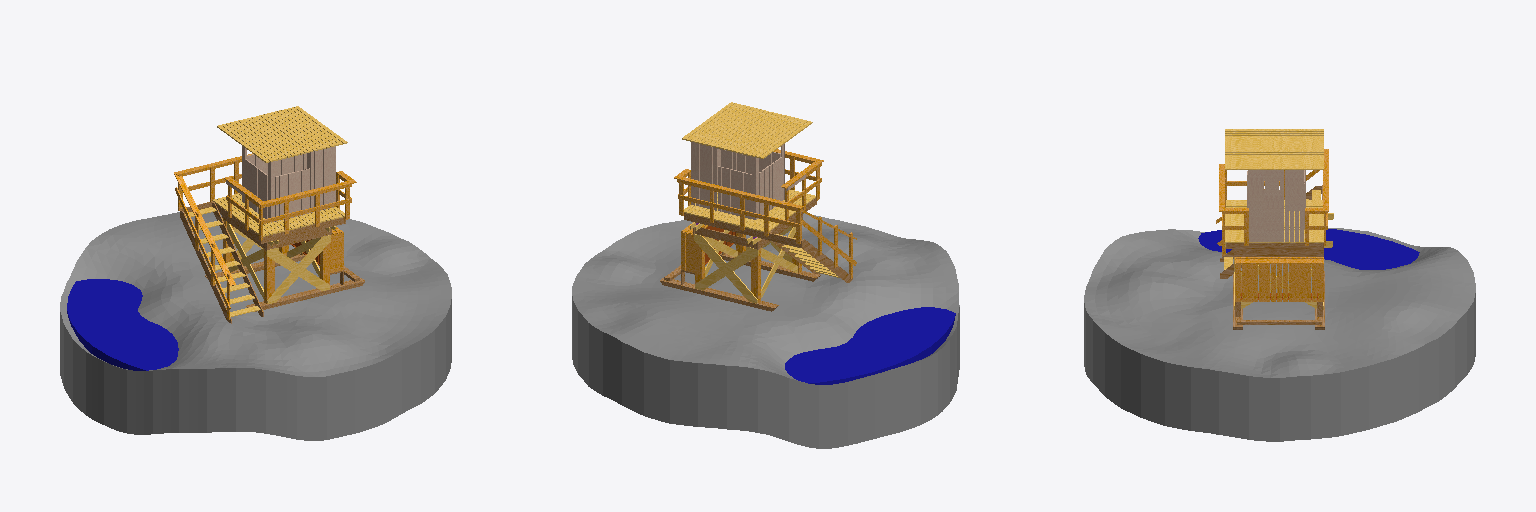
3 views of the same model, side by side, from view 1: azimuth 30°, elevation 25°; view 2: azimuth 150°, elevation 25°; view 3: azimuth 270°, elevation 25° (orthographic).
Parts seen in each view (by area): view 1: Cylinder002, Cylinder001, Rectangle001, Box225, Line001, Line002, Line009, Line010; view 2: Cylinder002, Cylinder001, Rectangle002, Line003, Line004; view 3: Cylinder002, Cylinder001, Rectangle005, Rectangle013.
Part boxes in pixels (bbox=[...]): Cylinder002: bbox=[60, 212, 451, 440]; Cylinder001: bbox=[67, 279, 178, 370]; Rectangle001: bbox=[246, 278, 364, 311]; Box225: bbox=[174, 173, 235, 285]; Line001: bbox=[267, 235, 330, 303]; Line002: bbox=[266, 248, 329, 290]; Line009: bbox=[180, 210, 231, 323]; Line010: bbox=[212, 202, 263, 316]; Cylinder002: bbox=[572, 213, 959, 448]; Cylinder001: bbox=[785, 307, 955, 384]; Rectangle002: bbox=[660, 278, 778, 311]; Line003: bbox=[694, 234, 757, 303]; Line004: bbox=[695, 247, 758, 290]; Cylinder002: bbox=[1084, 228, 1475, 441]; Cylinder001: bbox=[1198, 229, 1419, 269]; Rectangle005: bbox=[1234, 249, 1323, 256]; Rectangle013: bbox=[1227, 243, 1321, 248].
Size of the model in its own units: 979 by 651 by 979.
8 materials, 4 textured.